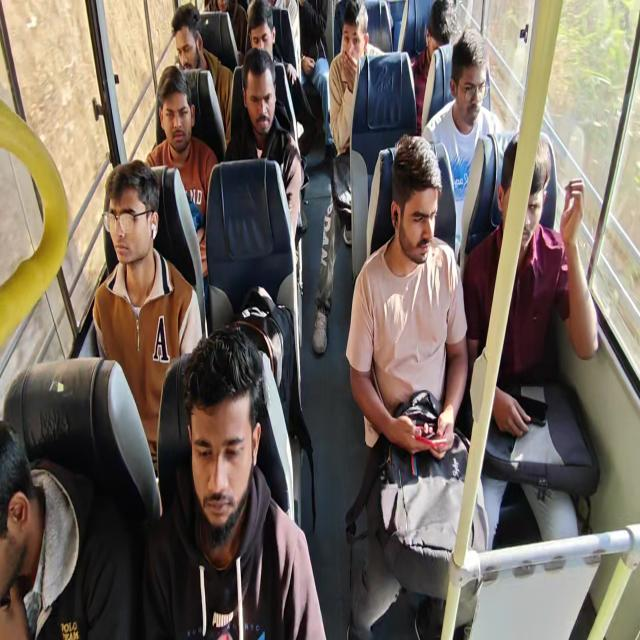person: (344, 133, 488, 638), (141, 325, 327, 638), (462, 130, 599, 550), (91, 160, 203, 483), (0, 419, 137, 639), (312, 1, 386, 354), (421, 27, 505, 262), (224, 47, 303, 276), (145, 65, 219, 301), (244, 0, 315, 161), (270, 0, 334, 162), (170, 2, 233, 143), (410, 0, 458, 134)
